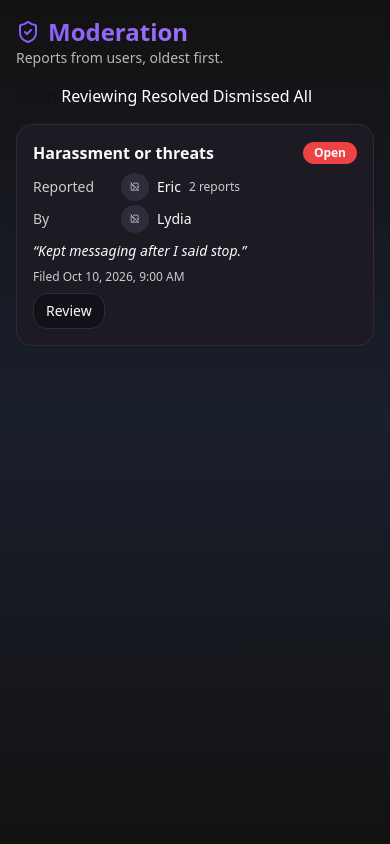
Test: Moderation page › resolves a report with a note and takes it off the open queue
The width and height of the screenshot is (390, 844).
Click the button "Review" at (69, 311), box [33,293,105,329]
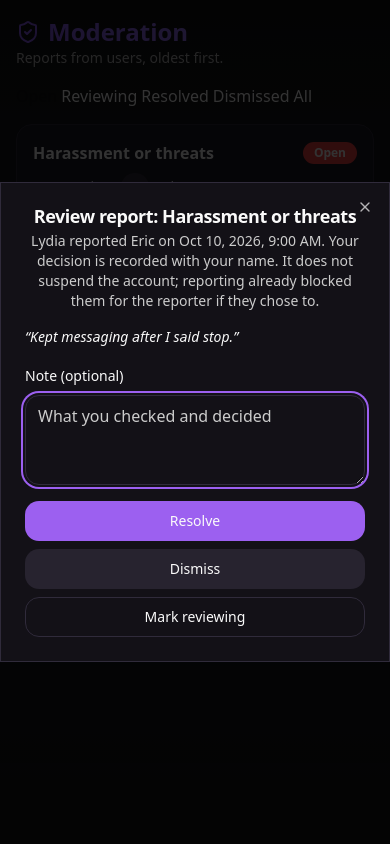
Type "  Warned the user.  " into the text box labelled "Note (optional)" at (195, 440), box [25,395,365,485]
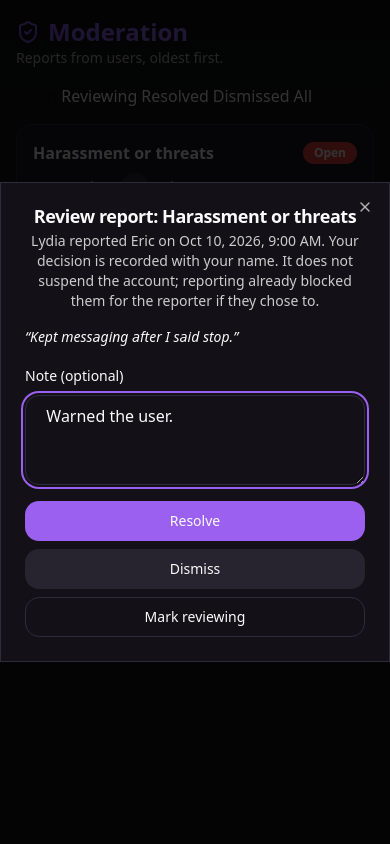
Click the button "Resolve" at (195, 521), box [25,501,365,541]
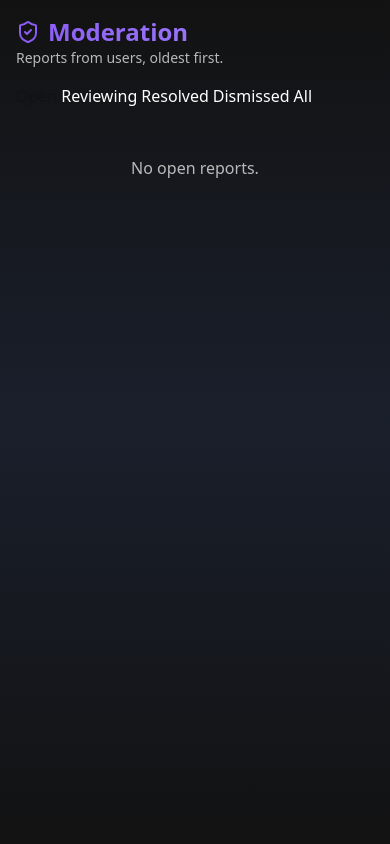
expect the text "No open reports." is shown: met, box [131,157,259,179]
